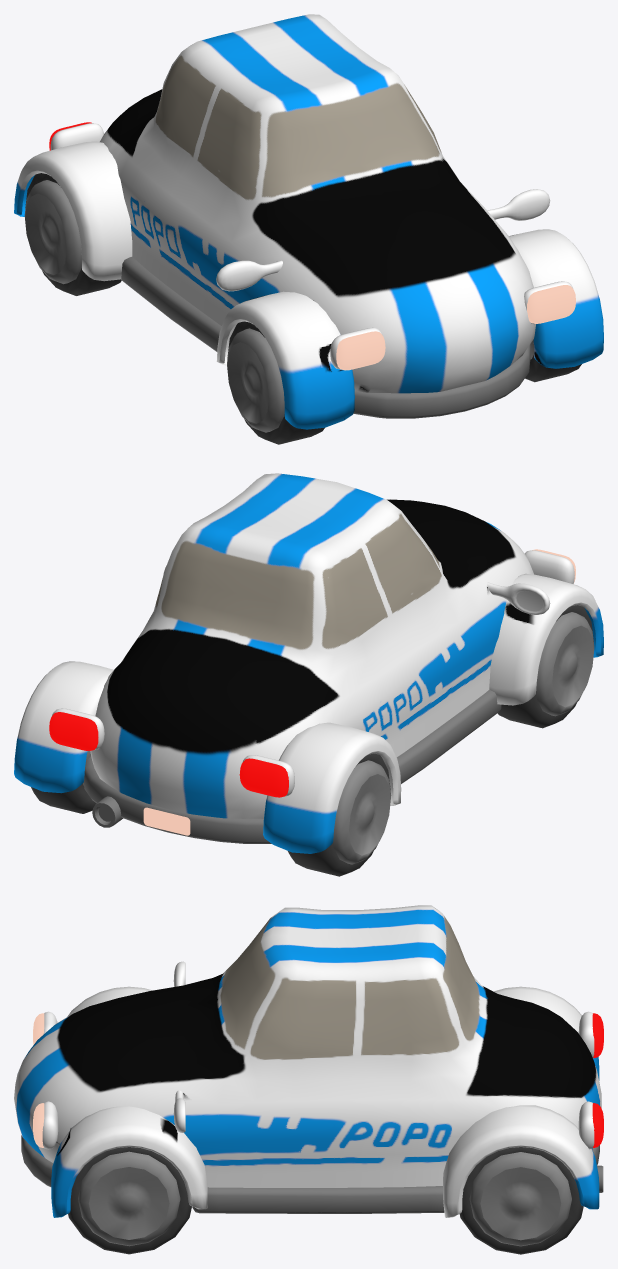
Rendered from Enemy Car.glb.
The picture shows the model from 3 angles, top to bottom: view 1: azimuth 30°, elevation 25°; view 2: azimuth 150°, elevation 25°; view 3: azimuth 270°, elevation 25°; orthographic projection. The views are drawn at different scales.
Parts seen in each view (by area): view 1: Car Body.001, Patrol Wheel RF, Patrol Wheel RB, Patrol Wheel LF; view 2: Car Body.001, Patrol Wheel RB, Patrol Wheel RF, Patrol Wheel LB; view 3: Car Body.001, Patrol Wheel LB, Patrol Wheel LF.
Part boxes in pixels (x1,y1,x2,y2): Car Body.001: [14, 14, 603, 429]; Patrol Wheel RF: [227, 321, 324, 444]; Patrol Wheel RB: [24, 173, 121, 295]; Patrol Wheel LF: [525, 339, 581, 382]; Car Body.001: [14, 473, 603, 853]; Patrol Wheel RB: [288, 753, 391, 876]; Patrol Wheel RF: [497, 605, 594, 728]; Patrol Wheel LB: [31, 751, 96, 813]; Car Body.001: [14, 905, 603, 1217]; Patrol Wheel LB: [459, 1147, 583, 1254]; Patrol Wheel LF: [68, 1147, 191, 1254].
Bounding box in the file's own units: 2.28 × 1.72 × 3.63.
Materials: 8 (1 with a texture image).
